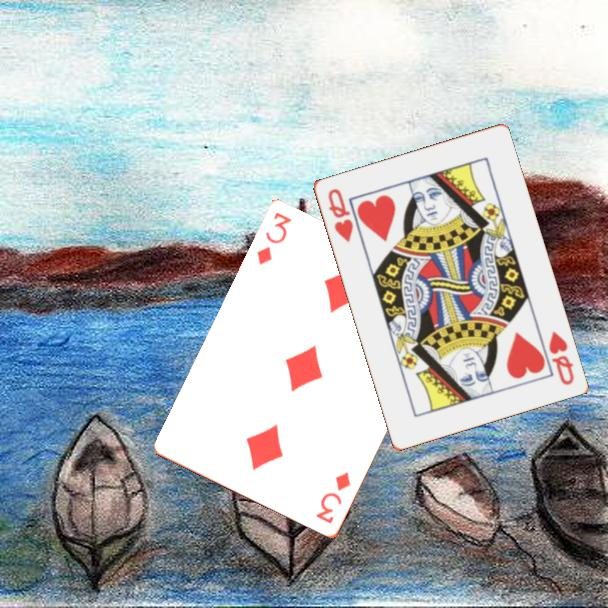d03: (253, 209, 295, 269), (312, 468, 354, 527)
h12: (545, 327, 577, 388), (324, 185, 356, 245)
